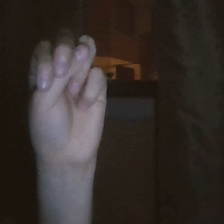N: (21, 22, 115, 181)
